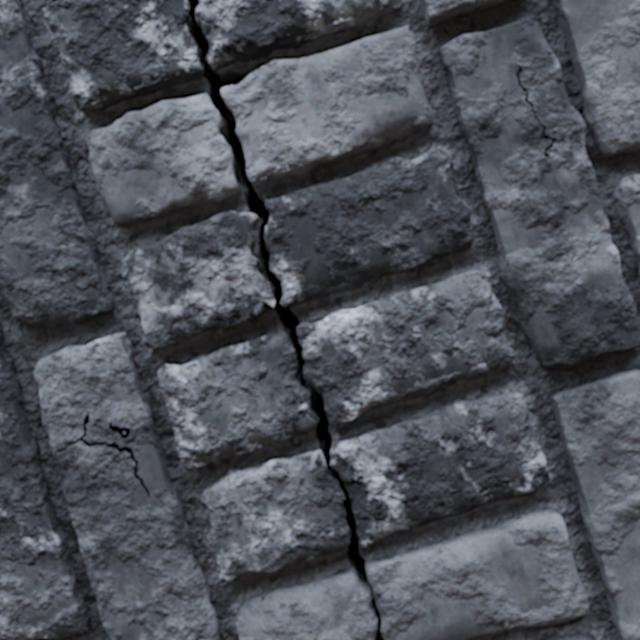broken_brick: (330, 390, 549, 547), (221, 25, 433, 185), (297, 271, 516, 424), (265, 148, 473, 306), (365, 510, 589, 639), (157, 333, 313, 471), (87, 93, 239, 226), (127, 211, 274, 348), (201, 450, 349, 584), (43, 0, 203, 113), (195, 0, 401, 71), (236, 570, 377, 639), (539, 633, 595, 639)
crack: (185, 0, 384, 639), (439, 0, 639, 370), (33, 333, 219, 639), (0, 0, 114, 328), (0, 323, 89, 639), (551, 370, 639, 639), (614, 174, 639, 276), (420, 0, 504, 25), (175, 198, 207, 208), (71, 84, 80, 108), (208, 455, 234, 463), (471, 532, 496, 540), (272, 435, 297, 443), (57, 35, 60, 46)
